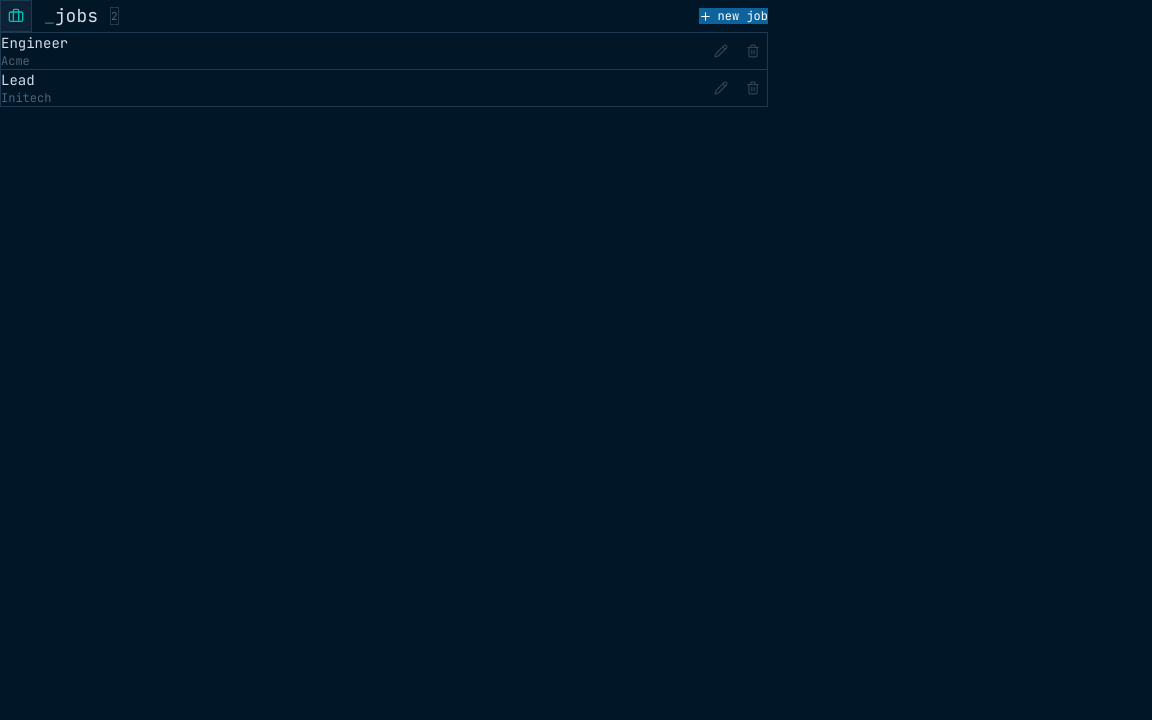
Scenario: admin jobs list page › asks for confirmation before deleting, and "cancel" leaves everything untouched
The width and height of the screenshot is (1152, 720).
Expected: the text "Engineer" is shown, [1,33,68,53]
Click the button titled "delete" in the row of "Engineer": (753, 51) [739,37,767,65]
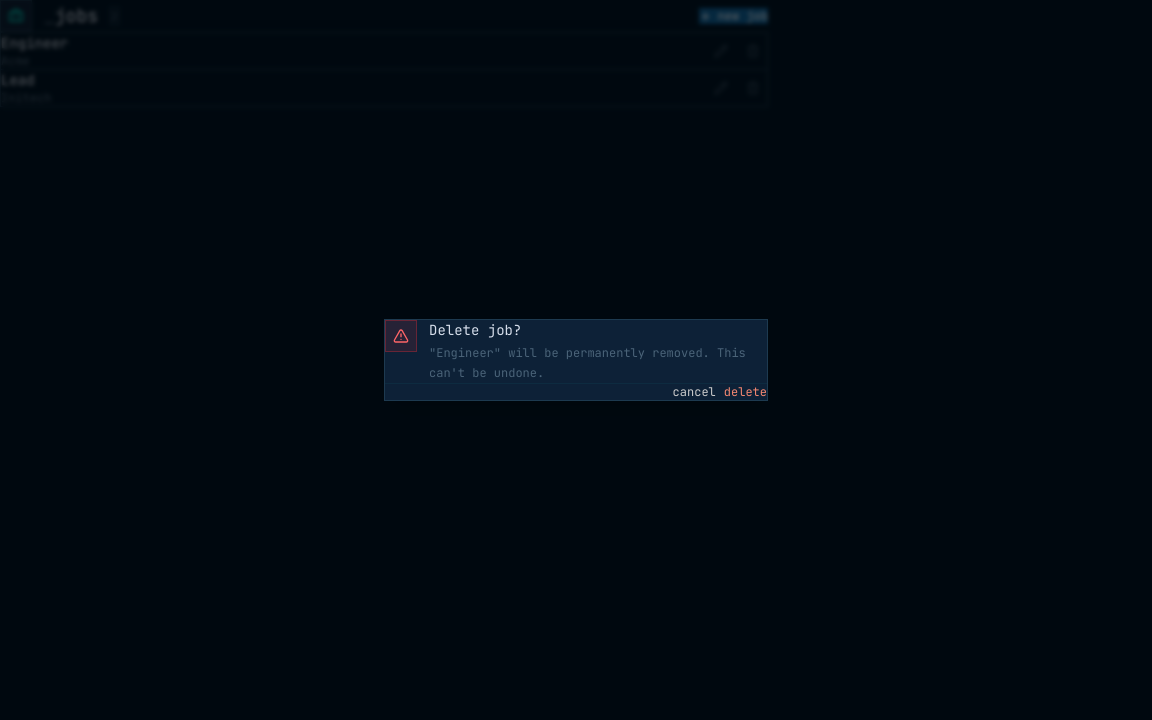
Expected: the heading "Delete job?" is shown, [429,321,521,339]
Click the button "cancel": (694, 392) [673,384,716,400]
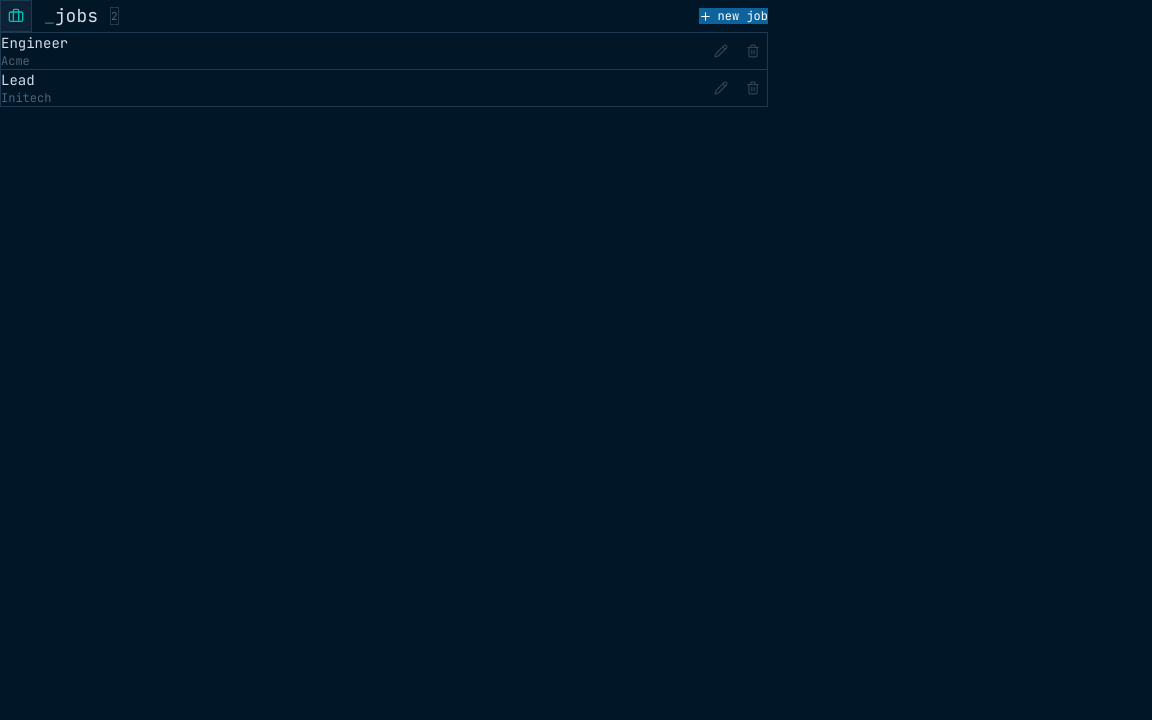
Expected: the text "Engineer" is shown, [1,33,68,53]
Expected: the dialog is gone
